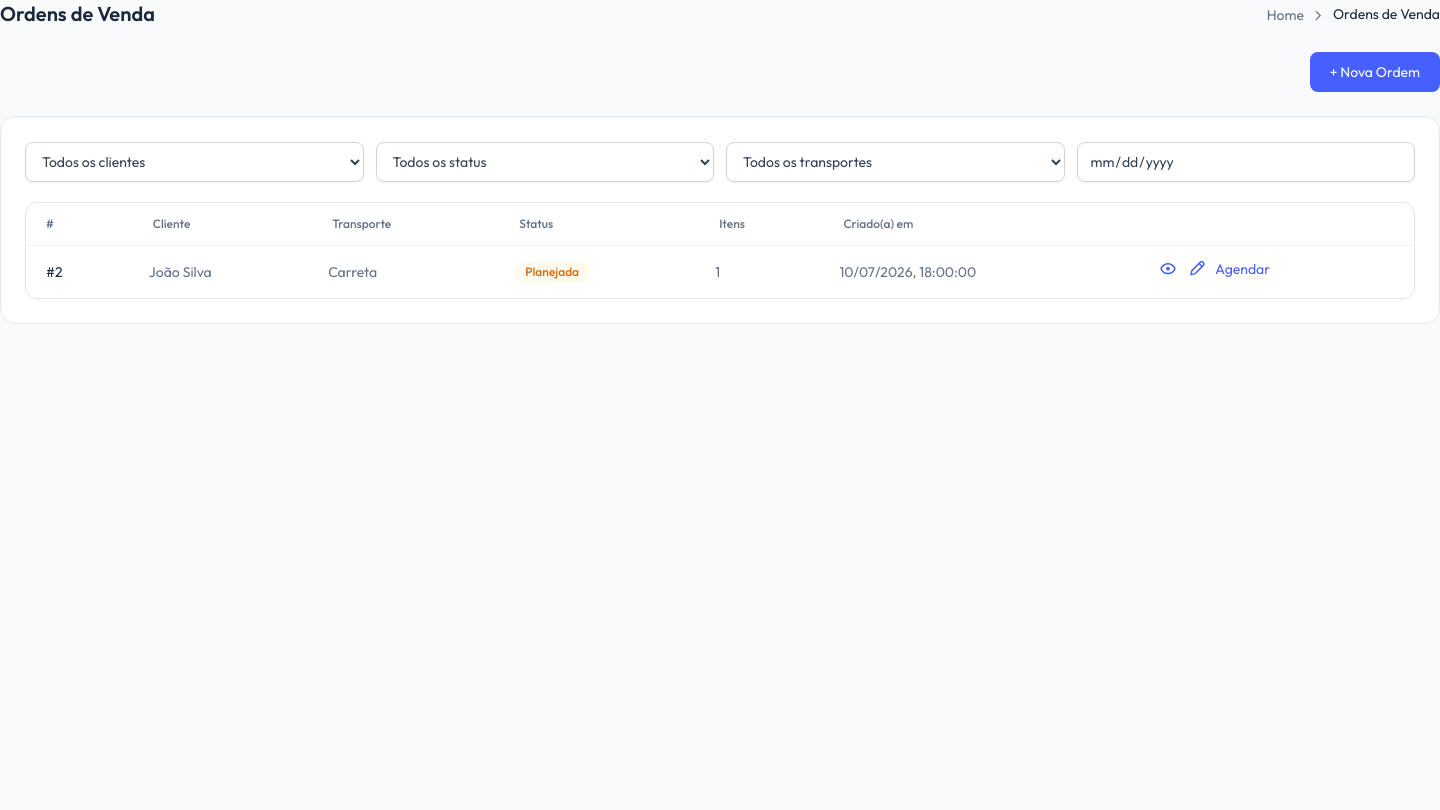
it: agendamento › fecha o modal de agendamento ao clicar em Cancelar
Click the button "Agendar".
click(1243, 268)  # box [1215,258,1270,278]
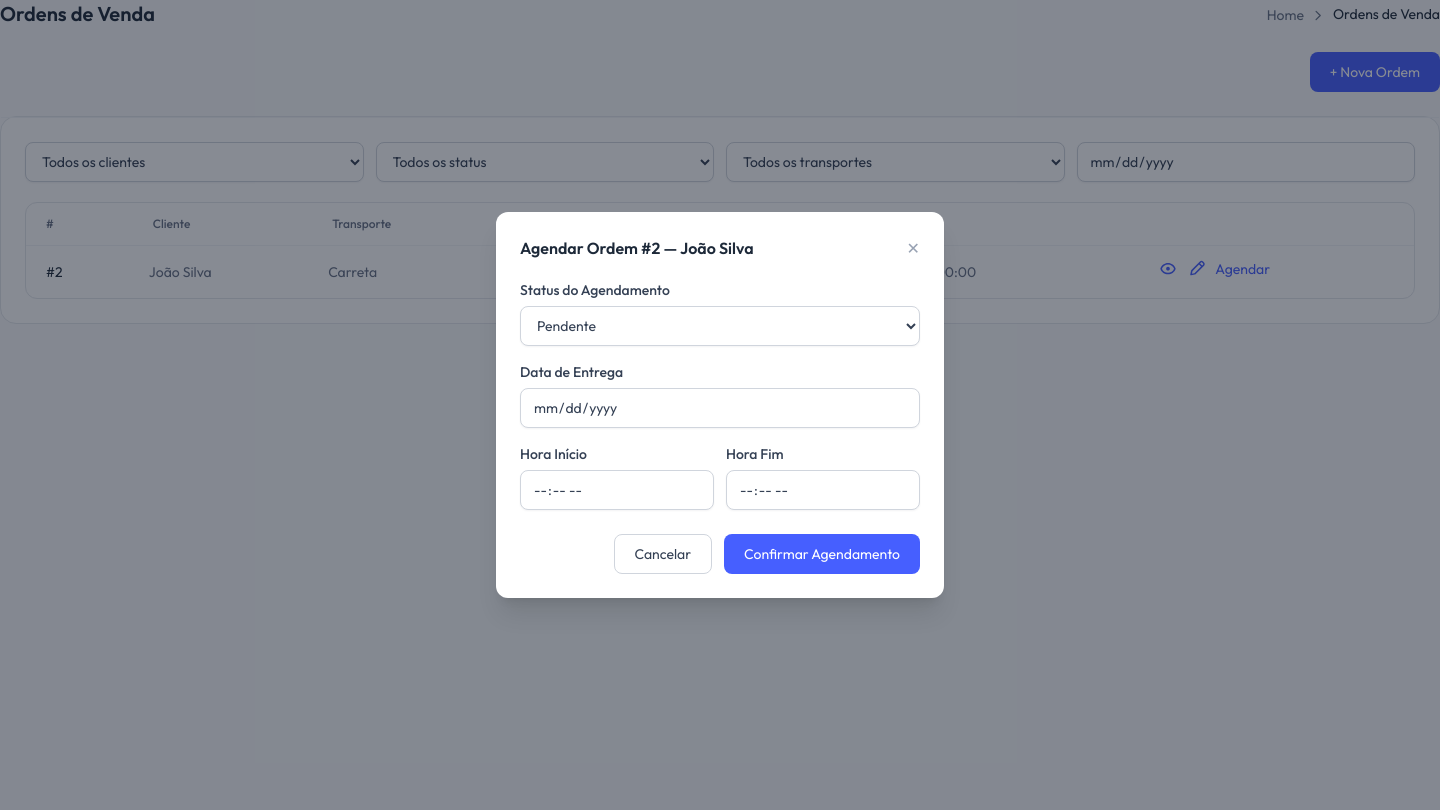
Check: the heading "Agendar Ordem #2 — João Silva" is shown, box [520,236,754,260]
Click the button "Cancelar".
click(663, 554)  # box [614,534,712,574]
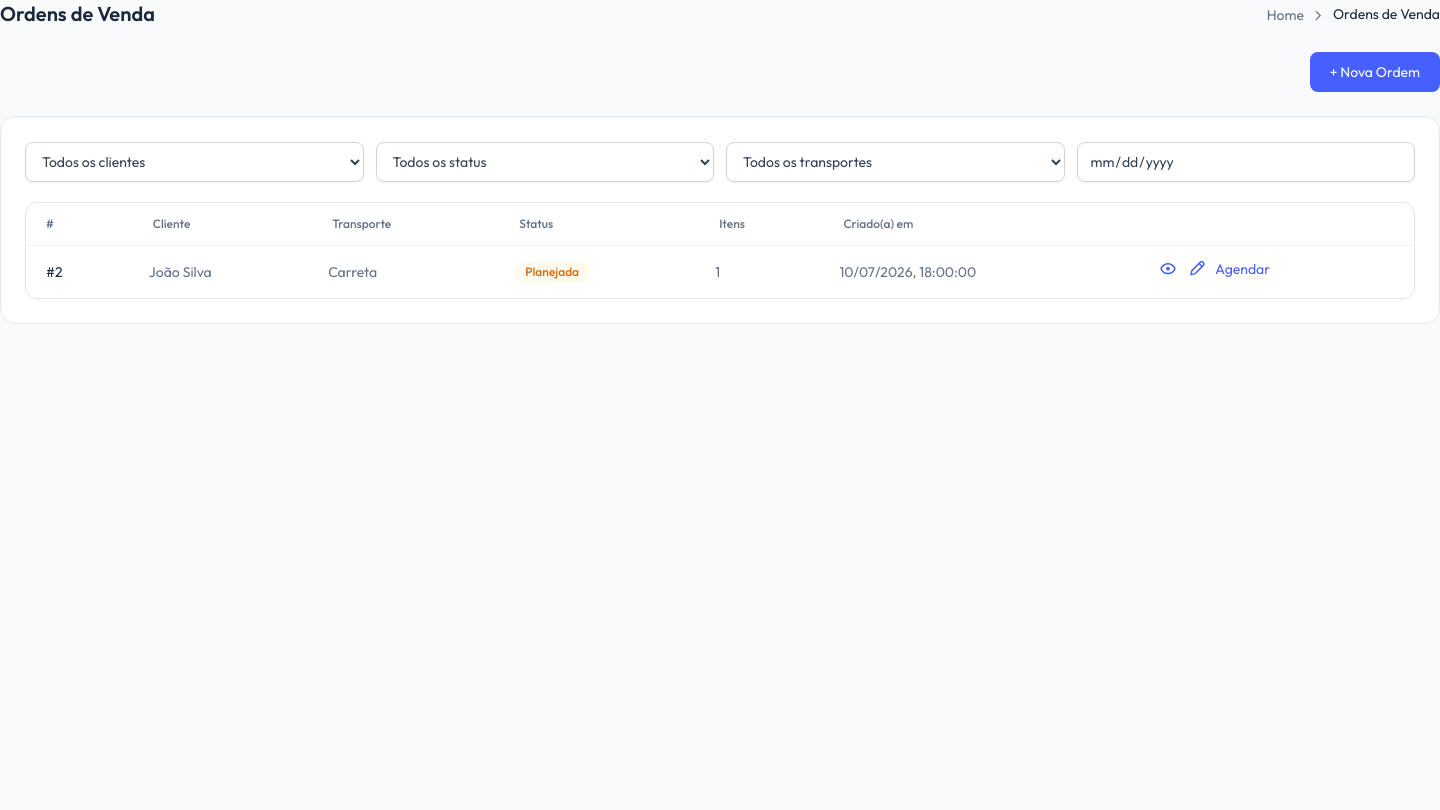
Check: the heading "Agendar Ordem #2 — João Silva" is gone
